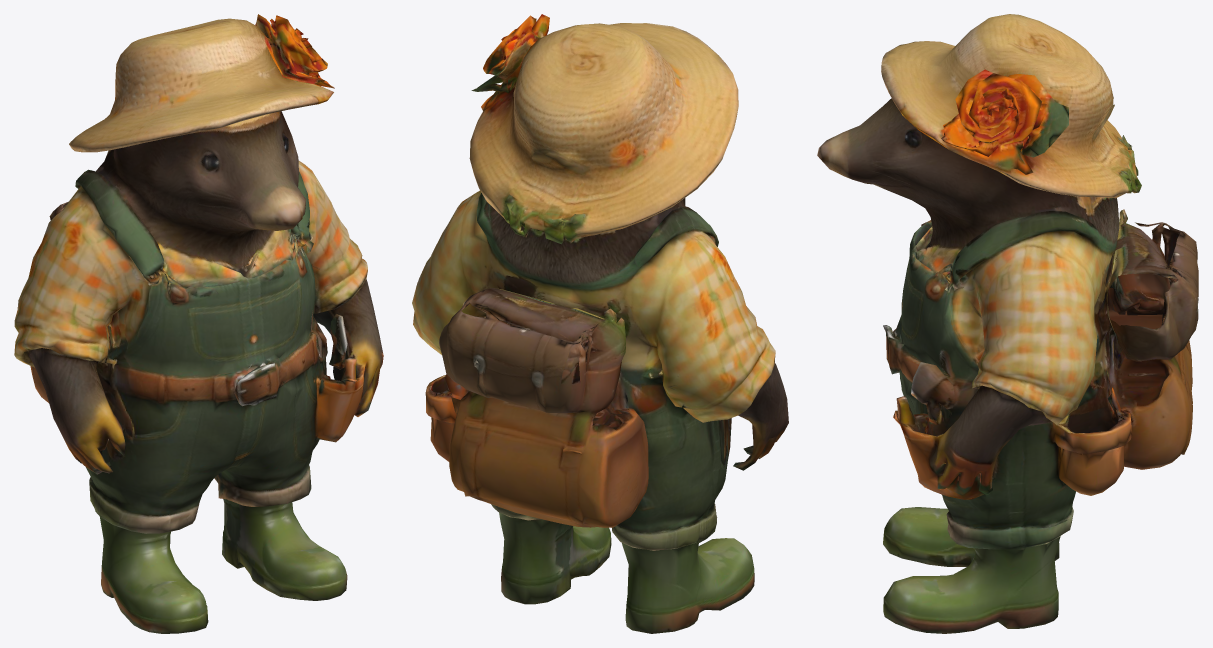
3 renders of one model, left to right at view 1: azimuth 30°, elevation 25°; view 2: azimuth 150°, elevation 25°; view 3: azimuth 270°, elevation 25°, orthographic. The views are drawn at different scales.
Visible parts, largest first — view 1: Mesh1; view 2: Mesh1; view 3: Mesh1.
Boxes of the visible parts, <box> form: Mesh1: <box>14,14,383,633</box>; Mesh1: <box>412,14,788,633</box>; Mesh1: <box>817,14,1198,633</box>.
Bounding box in the file's own units: 1.3 × 2 × 1.24.
1 material, 1 textured.
